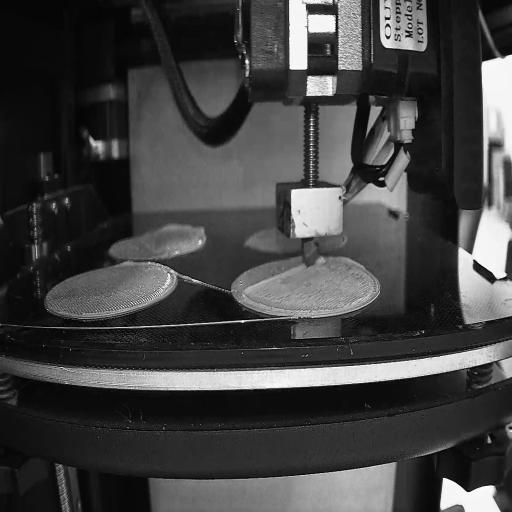over_extrusion: (242, 262, 304, 295), (340, 230, 348, 251), (119, 257, 131, 267), (318, 252, 325, 267)
